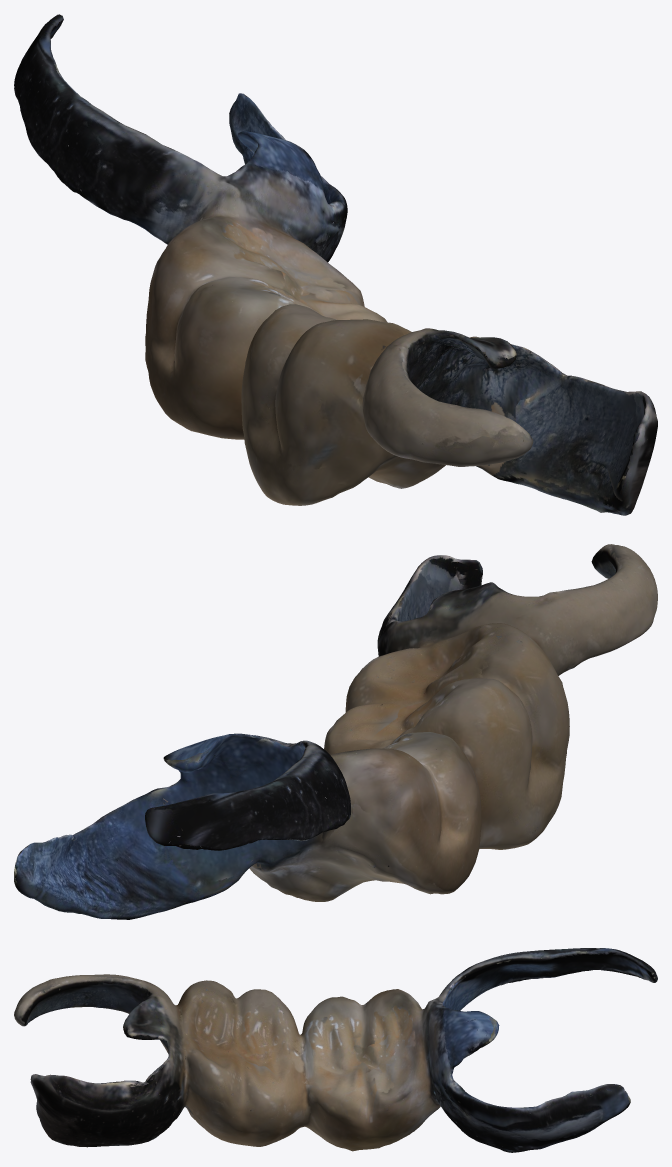
File: maryland pfm.glb
3 views of the same model, one above another, from view 1: azimuth 30°, elevation 25°; view 2: azimuth 150°, elevation 25°; view 3: azimuth 270°, elevation 25° (orthographic). The views are drawn at different scales.
Visible parts, largest first — view 1: maryland pfm LowerJawScan; view 2: maryland pfm LowerJawScan; view 3: maryland pfm LowerJawScan.
Boxes of the visible parts, <box> form: maryland pfm LowerJawScan: <box>14,14,657,515</box>; maryland pfm LowerJawScan: <box>14,544,657,919</box>; maryland pfm LowerJawScan: <box>14,948,657,1152</box>.
Bounding box in the file's own units: 1.11 × 0.9818 × 3.26.
1 material, 1 textured.
